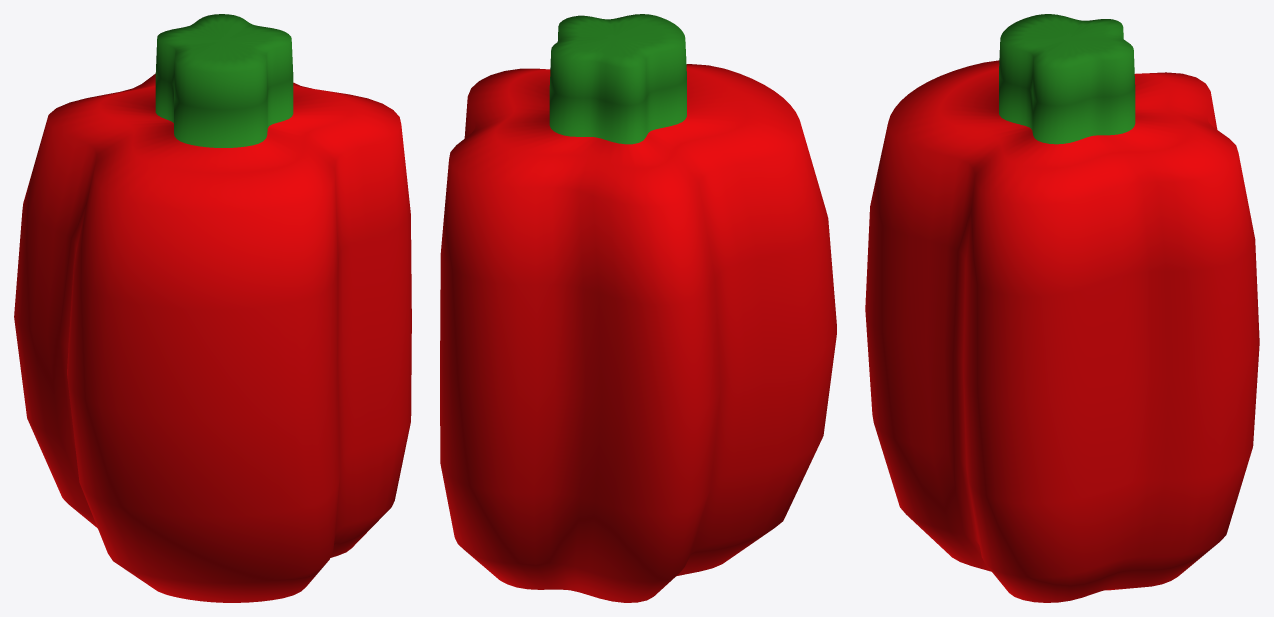
File: Pimiento.fbx
The picture shows the model from 3 angles, left to right: view 1: azimuth 30°, elevation 25°; view 2: azimuth 150°, elevation 25°; view 3: azimuth 270°, elevation 25°; orthographic projection.
Visible parts, largest first — view 1: Cylinder.006; view 2: Cylinder.006; view 3: Cylinder.006.
Part boxes in pixels (x1,y1,x2,y2): Cylinder.006: [14, 14, 411, 602]; Cylinder.006: [440, 14, 836, 602]; Cylinder.006: [865, 14, 1259, 602].
Size of the model in its own units: 21.29 by 32.2 by 21.65.
